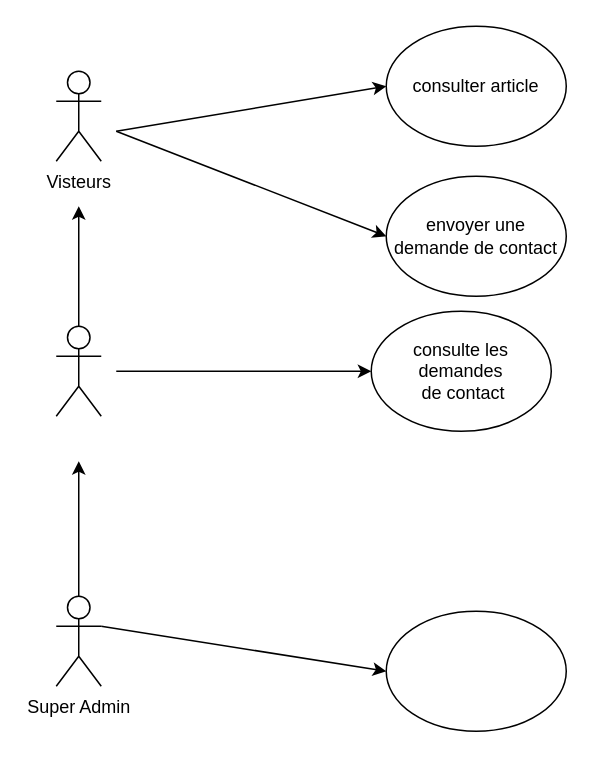
This 593x767 diagram has some shape labels left out. The centre of each missing label's shape, as x and y in pixels:
Administrteur: point (78, 370)
Gére les compte admin: point (475, 670)
